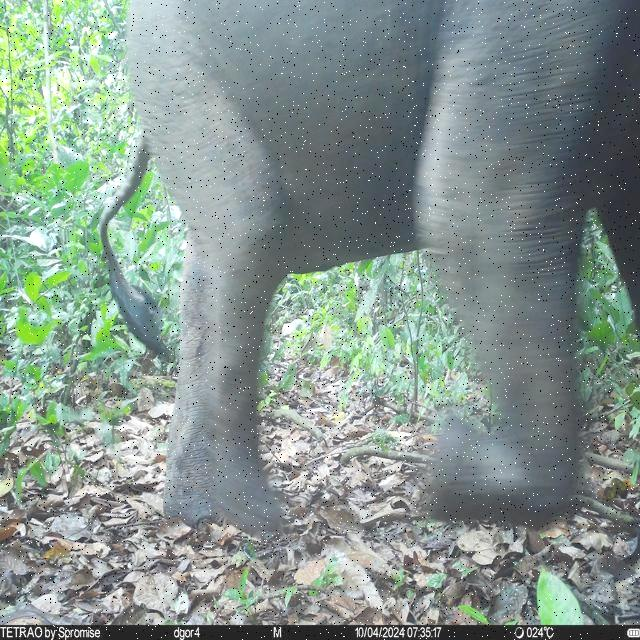elephant: (97, 0, 640, 538)
